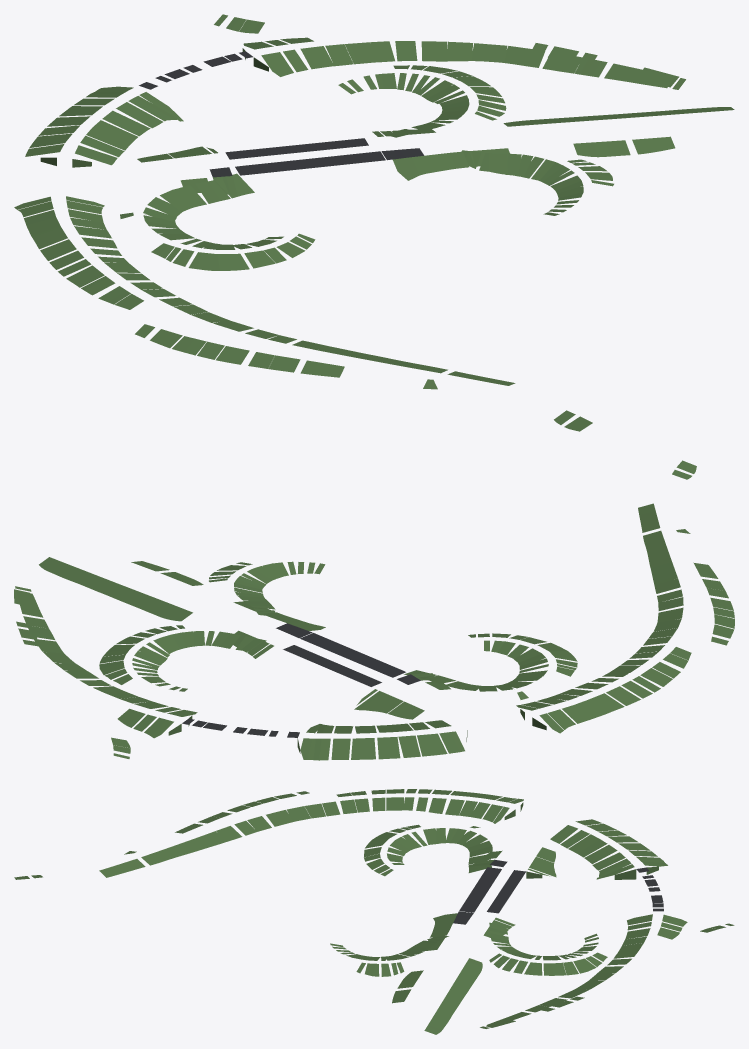
The model's file is br_h52_sherwood_park_1_lod2.gltf.
3 renders of one model, top to bottom at view 1: azimuth 30°, elevation 25°; view 2: azimuth 150°, elevation 25°; view 3: azimuth 270°, elevation 25°, orthographic. The views are drawn at different scales.
Visible parts, largest first — view 1: br_h52_sherwood_park_1_lod2; view 2: br_h52_sherwood_park_1_lod2; view 3: br_h52_sherwood_park_1_lod2.
Boxes of the visible parts, left/top/right/bottom form: br_h52_sherwood_park_1_lod2: left=14, top=14, right=734, bottom=431; br_h52_sherwood_park_1_lod2: left=14, top=460, right=734, bottom=760; br_h52_sherwood_park_1_lod2: left=14, top=789, right=734, bottom=1034.
Bounding box in the file's own units: 710 × 22.63 × 911.
